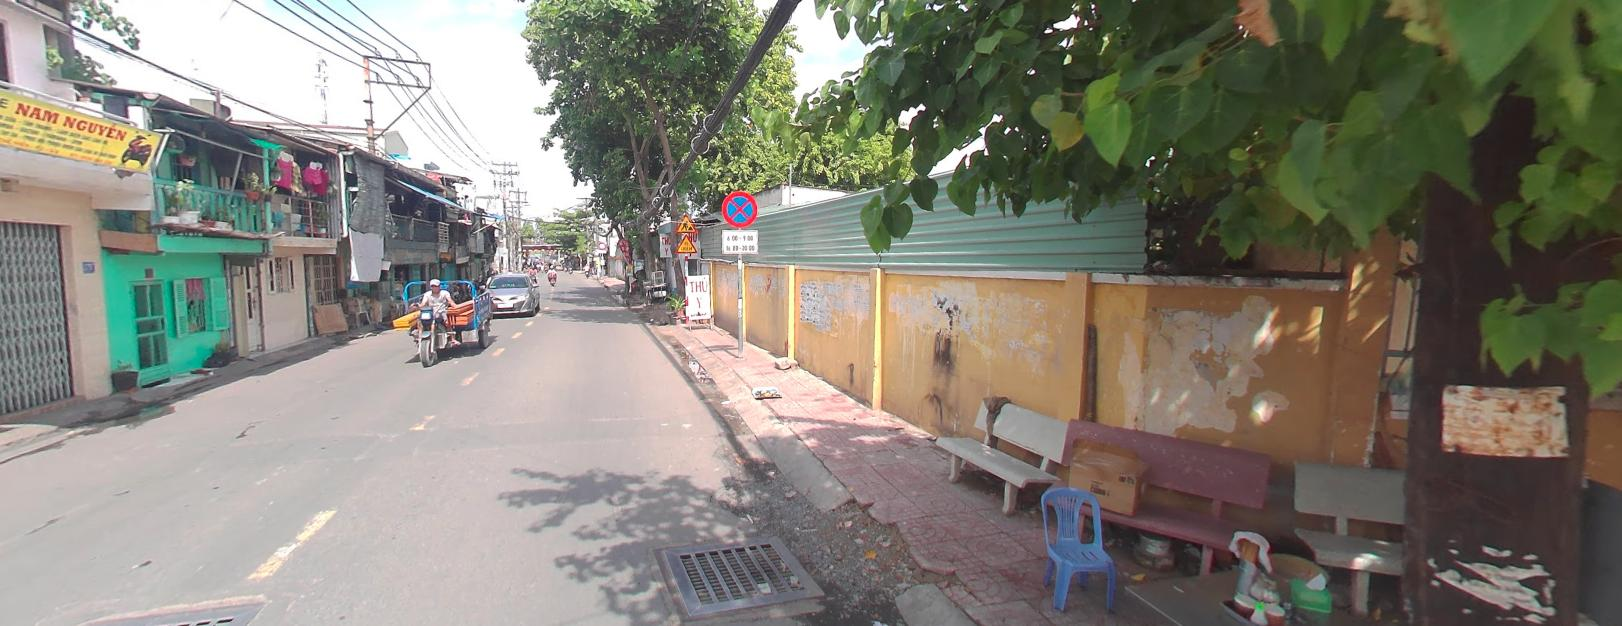Cam dung va do: (721, 189, 756, 225)
Nguy hiem: (676, 233, 697, 251), (675, 213, 695, 231)
